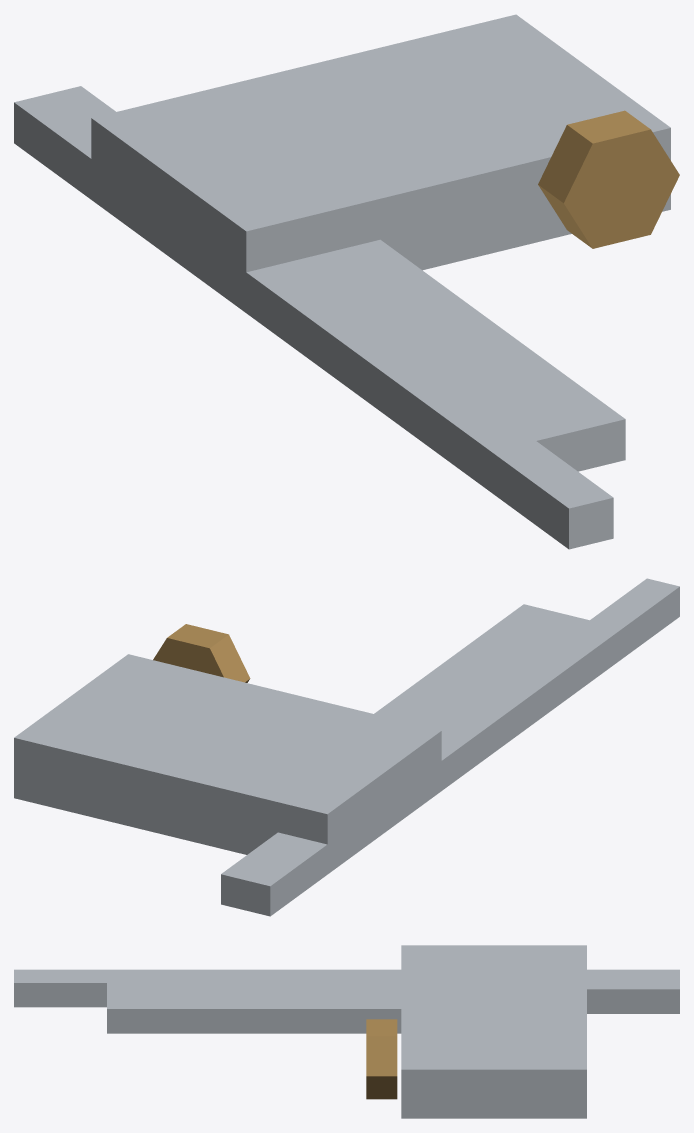
Rendered from Prop_Survey_Calipers_Jaw_LOD1.glb.
The picture shows the model from 3 angles, top to bottom: view 1: azimuth 30°, elevation 25°; view 2: azimuth 150°, elevation 25°; view 3: azimuth 270°, elevation 25°; orthographic projection. The views are drawn at different scales.
Parts seen in each view (by area): view 1: Prop_Survey_Calipers_Jaw; view 2: Prop_Survey_Calipers_Jaw; view 3: Prop_Survey_Calipers_Jaw.
Part boxes in pixels (x1,y1,x2,y2): Prop_Survey_Calipers_Jaw: (14, 14, 679, 549); Prop_Survey_Calipers_Jaw: (14, 578, 679, 916); Prop_Survey_Calipers_Jaw: (14, 945, 679, 1118).
Size of the model in its own units: 0.038 by 0.0097 by 0.086.
